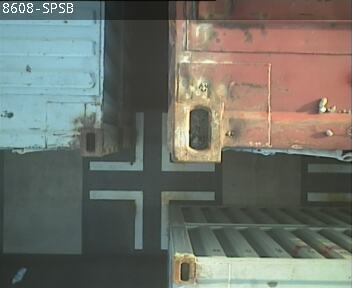groundmarker_1: (88, 189, 215, 248), (88, 114, 215, 170)
